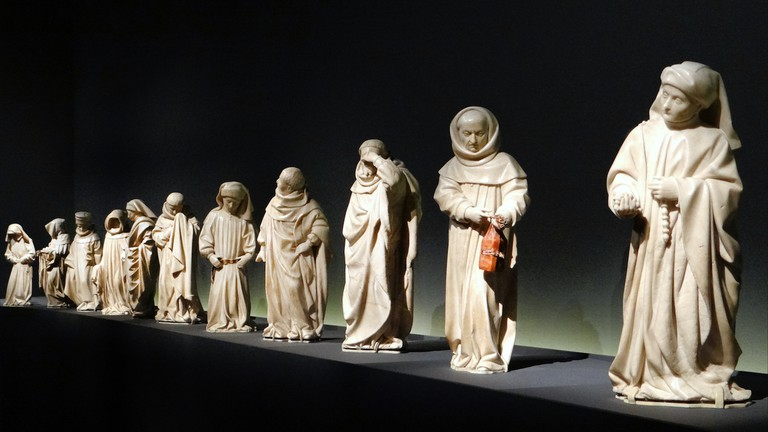person-like: (604, 57, 757, 411), (429, 104, 534, 377), (337, 136, 424, 356), (252, 161, 334, 346), (197, 177, 258, 337), (148, 187, 201, 326), (119, 196, 156, 316), (91, 205, 130, 315), (64, 209, 102, 308), (37, 215, 72, 308), (1, 219, 37, 306)
